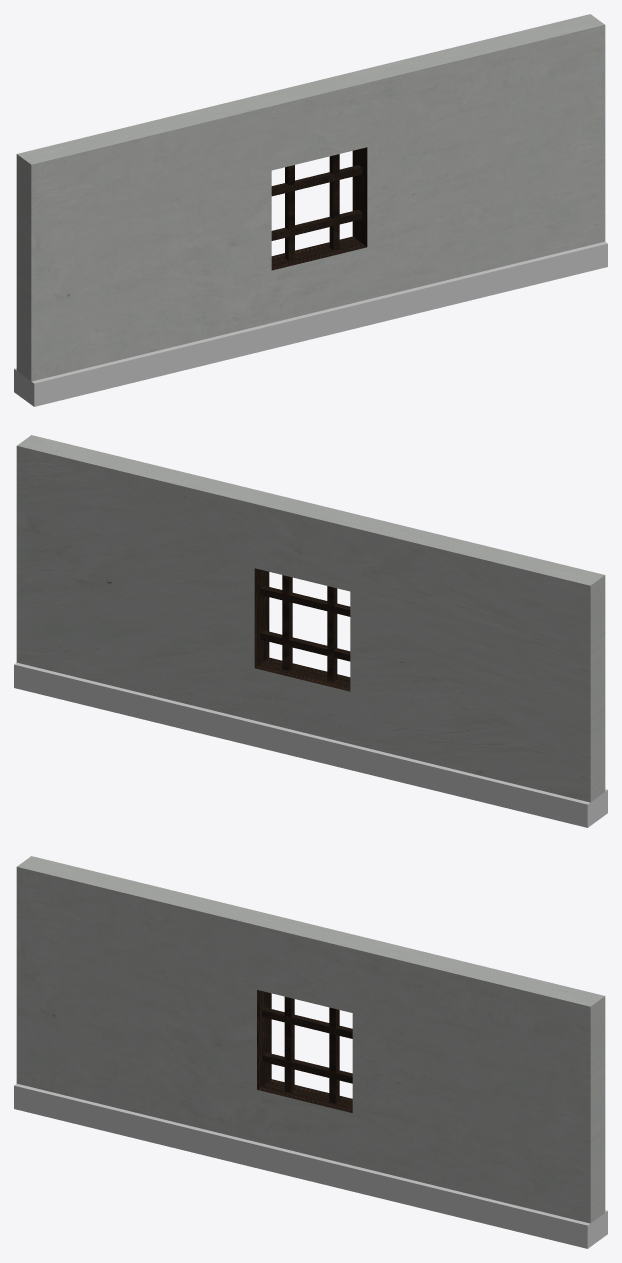
File: Window.fbx
3 renders of one model, top to bottom at view 1: azimuth 30°, elevation 25°; view 2: azimuth 150°, elevation 25°; view 3: azimuth 330°, elevation 25°, orthographic.
Visible parts, largest first — view 1: Wall; view 2: Wall; view 3: Wall.
Part boxes in pixels (x1,y1,x2,y2): Wall: (14,14,607,406); Wall: (14,435,607,827); Wall: (14,856,607,1248).
Bounding box in the file's own units: 900 × 360 × 55.
